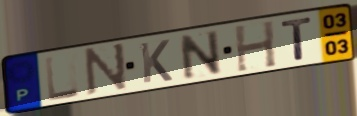H: (232, 19, 278, 74)
K: (138, 38, 175, 85)
L: (43, 54, 83, 103)
N: (177, 27, 224, 81), (84, 41, 128, 98)
T: (280, 15, 315, 62)
